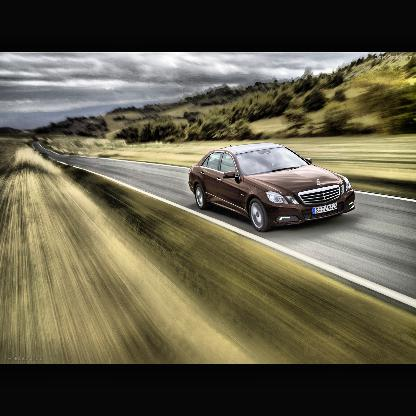Mercedes-Benz E-Class Sedan 2012: (186, 143, 358, 236)
